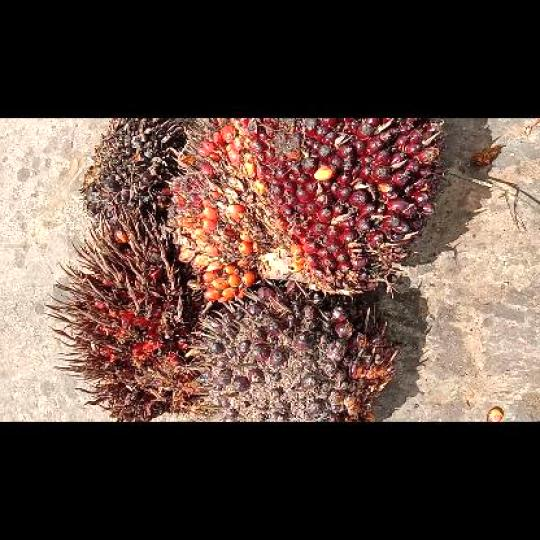kurang masak: (176, 280, 398, 421)
masak: (169, 118, 443, 303)
terlalu masak: (52, 208, 205, 420)
